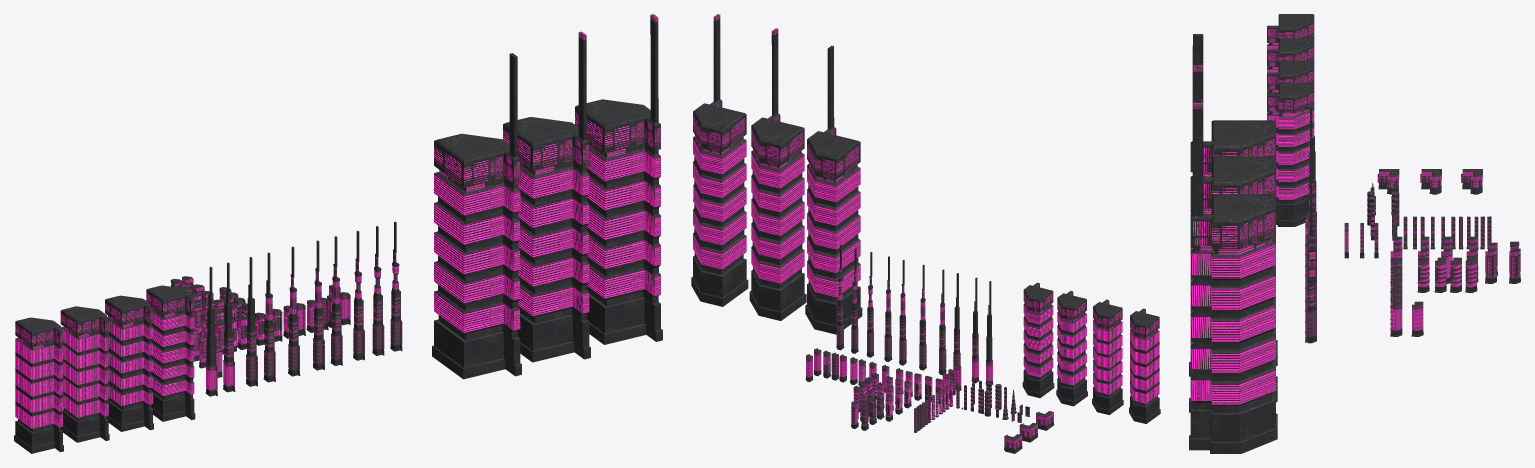
File: sm_rooftop_5_hd_jfg_scene_texturesattached.fbx
3 renders of one model, left to right at view 1: azimuth 30°, elevation 25°; view 2: azimuth 150°, elevation 25°; view 3: azimuth 270°, elevation 25°, orthographic. The views are drawn at different scales.
Parts seen in each view (by area): view 1: SM_Rooftop_HD_5_JFG_low_064, SM_Rooftop_HD_5_JFG_low_066, SM_Rooftop_HD_5_JFG_low_065, SM_Rooftop_HD_5_JFG_low_060, SM_Rooftop_HD_5_JFG_low_061, SM_Rooftop_HD_5_JFG_low_062, SM_Rooftop_HD_5_JFG_low_063, SM_Rooftop_HD_5_JFG_low_034, SM_Rooftop_HD_5_JFG_low_037, SM_Rooftop_HD_5_JFG_low_036, SM_Rooftop_HD_5_JFG_low_056, SM_Rooftop_HD_5_JFG_low_035 (+5 smaller); view 2: SM_Rooftop_HD_5_JFG_low_066, SM_Rooftop_HD_5_JFG_low_065, SM_Rooftop_HD_5_JFG_low_064, SM_Rooftop_HD_5_JFG_low_063, SM_Rooftop_HD_5_JFG_low_060, SM_Rooftop_HD_5_JFG_low_061, SM_Rooftop_HD_5_JFG_low_062, SM_Rooftop_HD_5_JFG_low_042, SM_Rooftop_HD_5_JFG_low_041, SM_Rooftop_HD_5_JFG_low_037, SM_Rooftop_HD_5_JFG_low_058, SM_Rooftop_HD_5_JFG_low_035 (+5 smaller); view 3: SM_Rooftop_HD_5_JFG_low_066, SM_Rooftop_HD_5_JFG_low_063, SM_Rooftop_HD_5_JFG_low_065, SM_Rooftop_HD_5_JFG_low_064, SM_Rooftop_HD_5_JFG_low_060, SM_Rooftop_HD_5_JFG_low_061, SM_Rooftop_HD_5_JFG_low_062, SM_Rooftop_HD_5_JFG_low_059, SM_Rooftop_HD_5_JFG_low_A_3, SM_Rooftop_HD_5_JFG_low_A_2, SM_Rooftop_HD_5_JFG_low_A_1, SM_Rooftop_HD_5_JFG_low_033 (+7 smaller).
Part boxes in pixels (bbox=[...]): SM_Rooftop_HD_5_JFG_low_064: bbox=[432, 53, 521, 379]; SM_Rooftop_HD_5_JFG_low_066: bbox=[575, 14, 662, 344]; SM_Rooftop_HD_5_JFG_low_065: bbox=[503, 31, 590, 362]; SM_Rooftop_HD_5_JFG_low_060: bbox=[14, 317, 63, 453]; SM_Rooftop_HD_5_JFG_low_061: bbox=[60, 306, 109, 442]; SM_Rooftop_HD_5_JFG_low_062: bbox=[105, 295, 153, 431]; SM_Rooftop_HD_5_JFG_low_063: bbox=[146, 285, 195, 421]; SM_Rooftop_HD_5_JFG_low_034: bbox=[205, 266, 217, 396]; SM_Rooftop_HD_5_JFG_low_037: bbox=[263, 252, 275, 382]; SM_Rooftop_HD_5_JFG_low_036: bbox=[246, 257, 257, 386]; SM_Rooftop_HD_5_JFG_low_056: bbox=[330, 236, 342, 365]; SM_Rooftop_HD_5_JFG_low_035: bbox=[223, 262, 235, 392]; SM_Rooftop_HD_5_JFG_low_066: bbox=[691, 14, 748, 306]; SM_Rooftop_HD_5_JFG_low_065: bbox=[749, 28, 806, 320]; SM_Rooftop_HD_5_JFG_low_064: bbox=[805, 45, 862, 334]; SM_Rooftop_HD_5_JFG_low_063: bbox=[1022, 282, 1054, 397]; SM_Rooftop_HD_5_JFG_low_060: bbox=[1129, 308, 1160, 423]; SM_Rooftop_HD_5_JFG_low_061: bbox=[1092, 299, 1123, 414]; SM_Rooftop_HD_5_JFG_low_062: bbox=[1056, 291, 1087, 406]; SM_Rooftop_HD_5_JFG_low_042: bbox=[899, 260, 906, 365]; SM_Rooftop_HD_5_JFG_low_041: bbox=[919, 264, 926, 370]; SM_Rooftop_HD_5_JFG_low_037: bbox=[938, 269, 946, 375]; SM_Rooftop_HD_5_JFG_low_058: bbox=[851, 248, 858, 353]; SM_Rooftop_HD_5_JFG_low_035: bbox=[971, 277, 979, 383]; SM_Rooftop_HD_5_JFG_low_066: bbox=[1189, 102, 1277, 453]; SM_Rooftop_HD_5_JFG_low_063: bbox=[1267, 82, 1314, 226]; SM_Rooftop_HD_5_JFG_low_065: bbox=[1189, 65, 1277, 412]; SM_Rooftop_HD_5_JFG_low_064: bbox=[1189, 34, 1277, 376]; SM_Rooftop_HD_5_JFG_low_060: bbox=[1267, 14, 1314, 137]; SM_Rooftop_HD_5_JFG_low_061: bbox=[1267, 37, 1314, 91]; SM_Rooftop_HD_5_JFG_low_062: bbox=[1267, 61, 1314, 113]; SM_Rooftop_HD_5_JFG_low_059: bbox=[1305, 203, 1316, 343]; SM_Rooftop_HD_5_JFG_low_A_3: bbox=[1461, 169, 1482, 194]; SM_Rooftop_HD_5_JFG_low_A_2: bbox=[1420, 169, 1441, 194]; SM_Rooftop_HD_5_JFG_low_A_1: bbox=[1377, 169, 1399, 194]; SM_Rooftop_HD_5_JFG_low_033: bbox=[1390, 301, 1402, 336].
Size of the model in its own units: 86447 by 44702 by 38910.
Materials: 1 (1 with a texture image).
